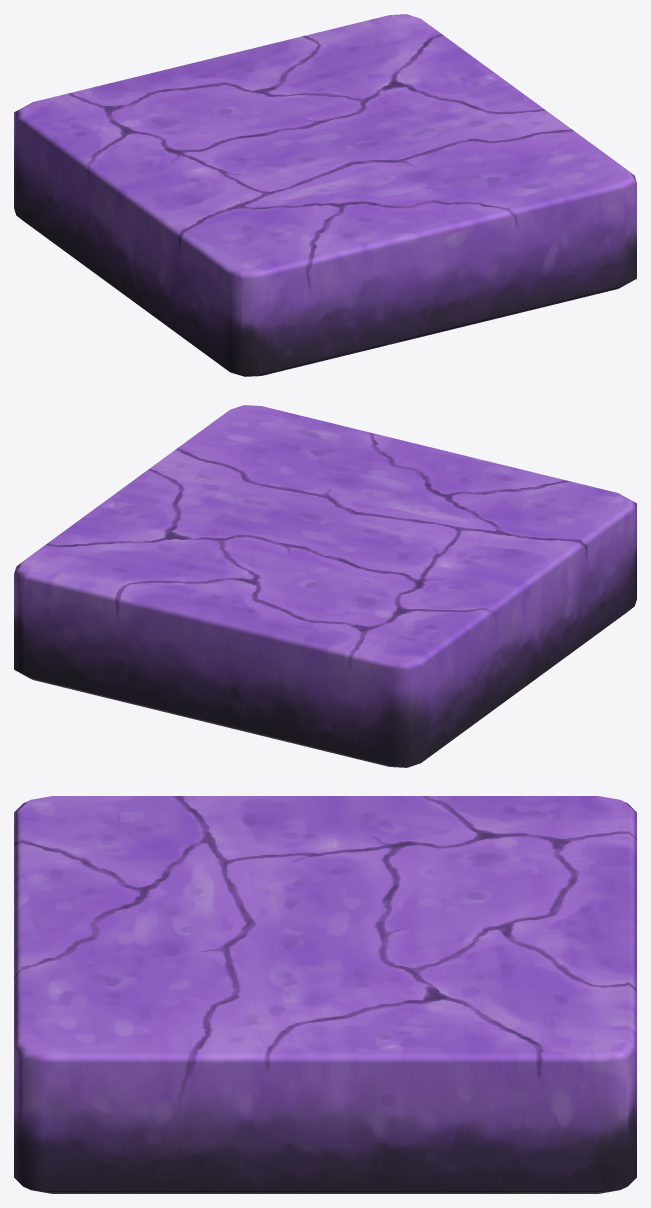
File: panel_purple.fbx
The picture shows the model from 3 angles, top to bottom: view 1: azimuth 30°, elevation 25°; view 2: azimuth 150°, elevation 25°; view 3: azimuth 270°, elevation 25°; orthographic projection. The views are drawn at different scales.
Parts seen in each view (by area): view 1: Panel_purple; view 2: Panel_purple; view 3: Panel_purple.
Boxes of the visible parts, left/top/right/bottom form: Panel_purple: left=14, top=14, right=636, bottom=376; Panel_purple: left=14, top=405, right=636, bottom=767; Panel_purple: left=14, top=796, right=636, bottom=1193.
Size of the model in its own units: 100 by 25 by 100.
Materials: 1 (1 with a texture image).
